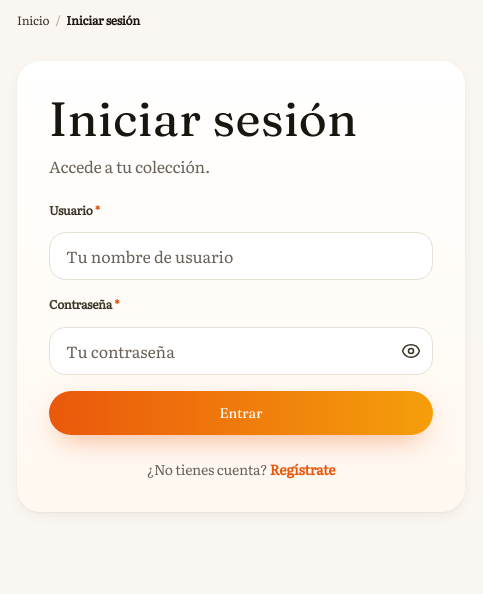
Test: LoginPage › limpia el error del campo al escribir
Click the button "Entrar". click: (241, 413)
box: x1=49 y1=391 x2=433 y2=435
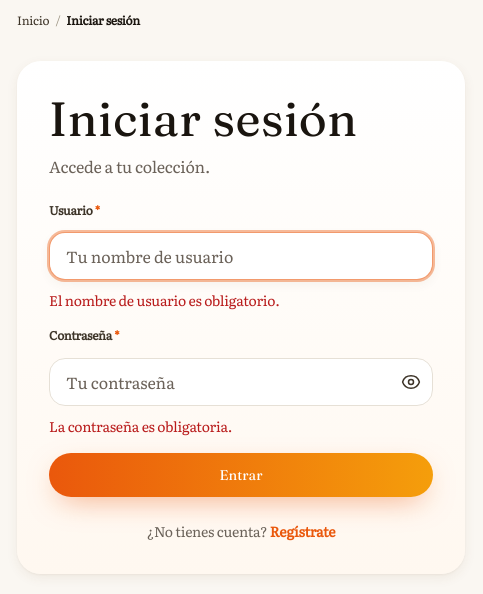
Result: the text "El nombre de usuario es obligatorio." is shown at x1=49 y1=290 x2=280 y2=310
Type "javi" into the field labelled "Usuario *". click: (241, 256)
box: x1=49 y1=232 x2=433 y2=280
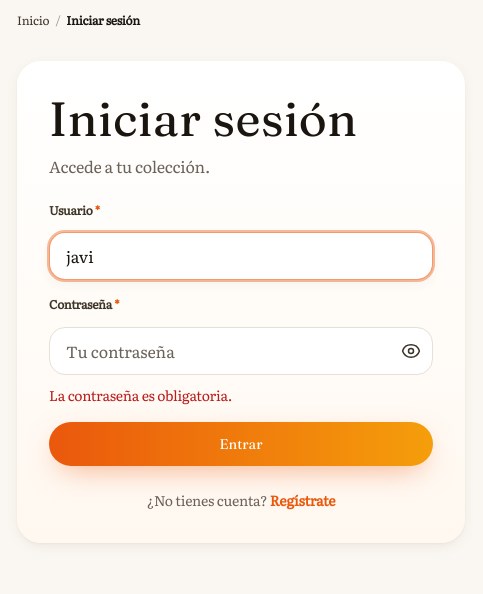
Result: the text "El nombre de usuario es obligatorio." is gone
